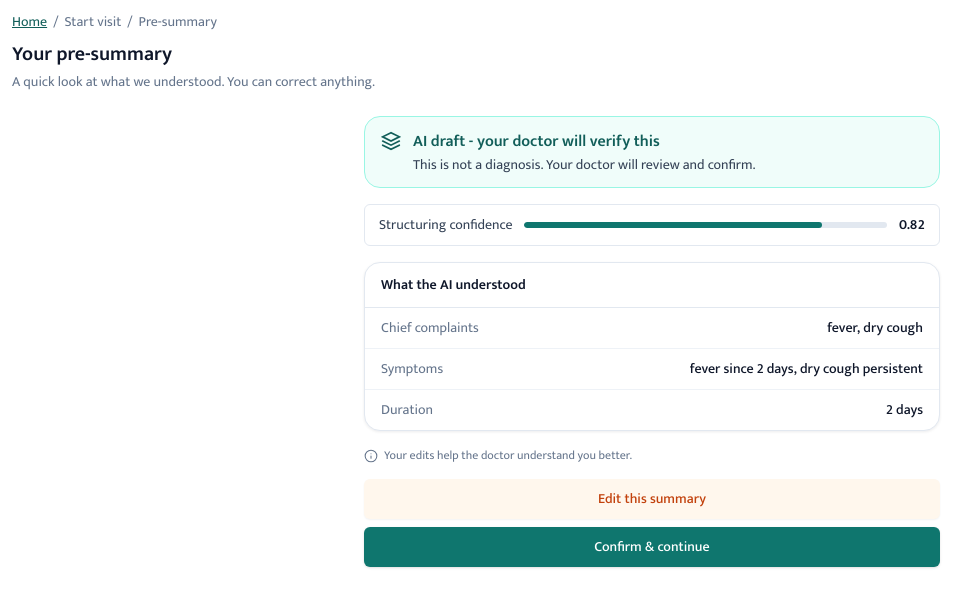
Test: PreSummaryReviewPage clean variant (FEAT-007 happy path) › confirm opens the continuation CTA toward consultation booking
The image size is (957, 599).
Click the button with test id "btn-confirm" at (652, 547), box [364,527,940,567]
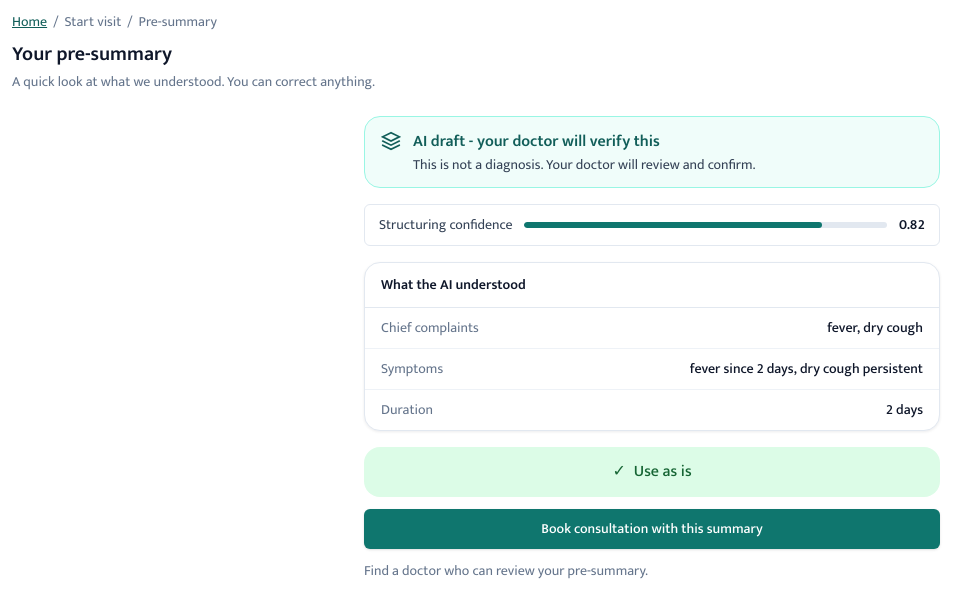
Check: the element with test id "confirmed-zone" is shown, box [364,447,940,581]
Check: the text with test id "done-line" reads "Use as is", box [634,458,692,485]
Check: the text with test id "book-sub" reads "Find a doctor who can review your pre-summary.", box [364,559,648,582]
